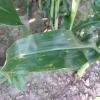Corn leaf blight: (1, 32, 100, 73)
